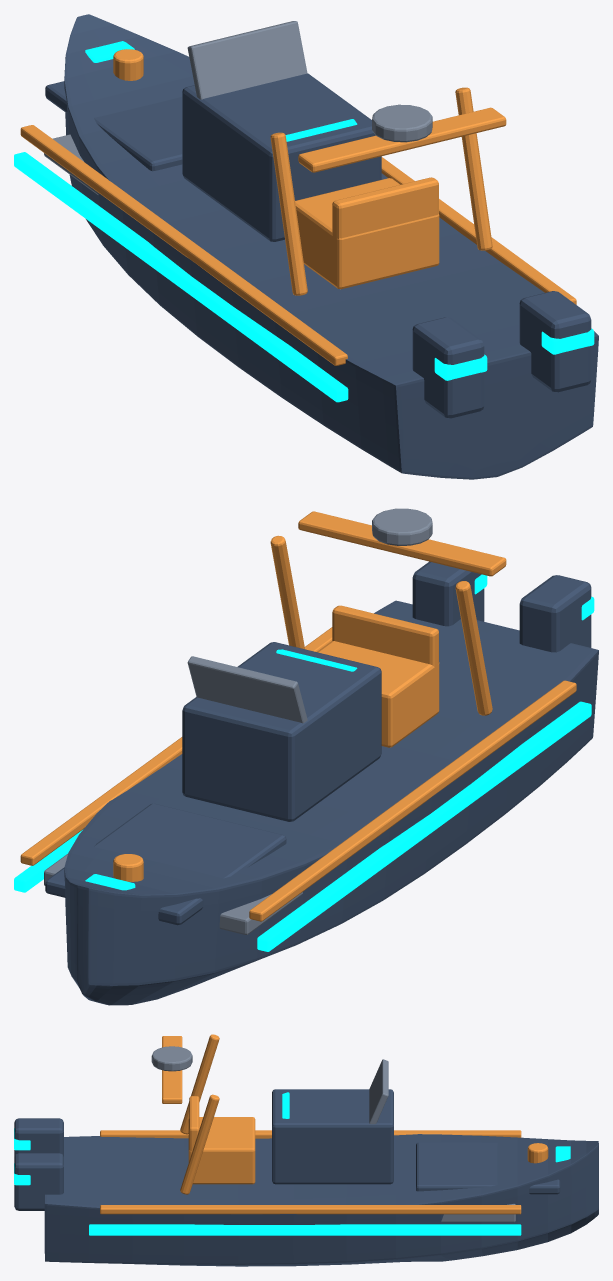
File: boat_skiff.glb
3 views of the same model, one above another, from view 1: azimuth 30°, elevation 25°; view 2: azimuth 150°, elevation 25°; view 3: azimuth 270°, elevation 25° (orthographic). The views are drawn at different scales.
Visible parts, largest first — view 1: Skiff_Hull, HelmConsole, PilotSeatBase, Skiff_NeonRailL, Skiff_GunwaleTrimL, Windshield, OutboardCowl_R, OutboardCowl_L, Skiff_ForeDeck, PilotSeatBack, RadarArchBar, ArchPostL (+6 smaller); view 2: Skiff_Hull, HelmConsole, Skiff_ForeDeck, Skiff_NeonRailL, Skiff_GunwaleTrimL, PilotSeatBase, OutboardCowl_L, Windshield, PilotSeatBack, RadarArchBar, OutboardCowl_R, Skiff_GunwaleTrimR (+6 smaller); view 3: Skiff_Hull, HelmConsole, Skiff_NeonRailR, Skiff_ForeDeck, Skiff_GunwaleTrimR, PilotSeatBase, OutboardCowl_R, OutboardCowl_L, Skiff_GunwaleTrimL, ArchPostR, RadarArchBar, Windshield (+5 smaller).
Boxes of the visible parts, left/top/right/bottom form: Skiff_Hull: left=64, top=14, right=598, bottom=479; HelmConsole: left=182, top=73, right=381, bottom=241; PilotSeatBase: left=295, top=178, right=439, bottom=289; Skiff_NeonRailL: left=14, top=152, right=348, bottom=402; Skiff_GunwaleTrimL: left=20, top=125, right=347, bottom=365; Windshield: left=187, top=21, right=307, bottom=99; OutboardCowl_R: left=519, top=291, right=591, bottom=392; OutboardCowl_L: left=412, top=317, right=484, bottom=418; Skiff_ForeDeck: left=45, top=81, right=182, bottom=171; PilotSeatBack: left=332, top=177, right=438, bottom=247; RadarArchBar: left=298, top=107, right=506, bottom=172; ArchPostL: left=270, top=132, right=307, bottom=295; Skiff_Hull: left=64, top=600, right=598, bottom=1005; HelmConsole: left=182, top=642, right=381, bottom=821; Skiff_ForeDeck: left=45, top=803, right=286, bottom=925; Skiff_NeonRailL: left=257, top=701, right=591, bottom=951; Skiff_GunwaleTrimL: left=249, top=680, right=576, bottom=921; PilotSeatBase: left=317, top=641, right=439, bottom=747; OutboardCowl_L: left=519, top=575, right=591, bottom=652; Windshield: left=187, top=656, right=307, bottom=723; PilotSeatBack: left=332, top=605, right=438, bottom=678; RadarArchBar: left=298, top=511, right=506, bottom=576; OutboardCowl_R: left=412, top=561, right=484, bottom=626; Skiff_GunwaleTrimR: left=20, top=627, right=332, bottom=865; Skiff_Hull: left=44, top=1134, right=598, bottom=1266; HelmConsole: left=272, top=1089, right=393, bottom=1184; Skiff_NeonRailR: left=89, top=1224, right=521, bottom=1235; Skiff_ForeDeck: left=416, top=1142, right=560, bottom=1194; Skiff_GunwaleTrimR: left=100, top=1205, right=521, bottom=1214; PilotSeatBase: left=188, top=1117, right=255, bottom=1184; OutboardCowl_R: left=14, top=1153, right=63, bottom=1210; OutboardCowl_L: left=14, top=1118, right=63, bottom=1156; Skiff_GunwaleTrimL: left=100, top=1130, right=521, bottom=1138; ArchPostR: left=180, top=1094, right=219, bottom=1194; RadarArchBar: left=162, top=1036, right=182, bottom=1103; Windshield: left=369, top=1059, right=388, bottom=1124.
Bounding box in the file's own units: 2.31 × 2.66 × 6.86.
